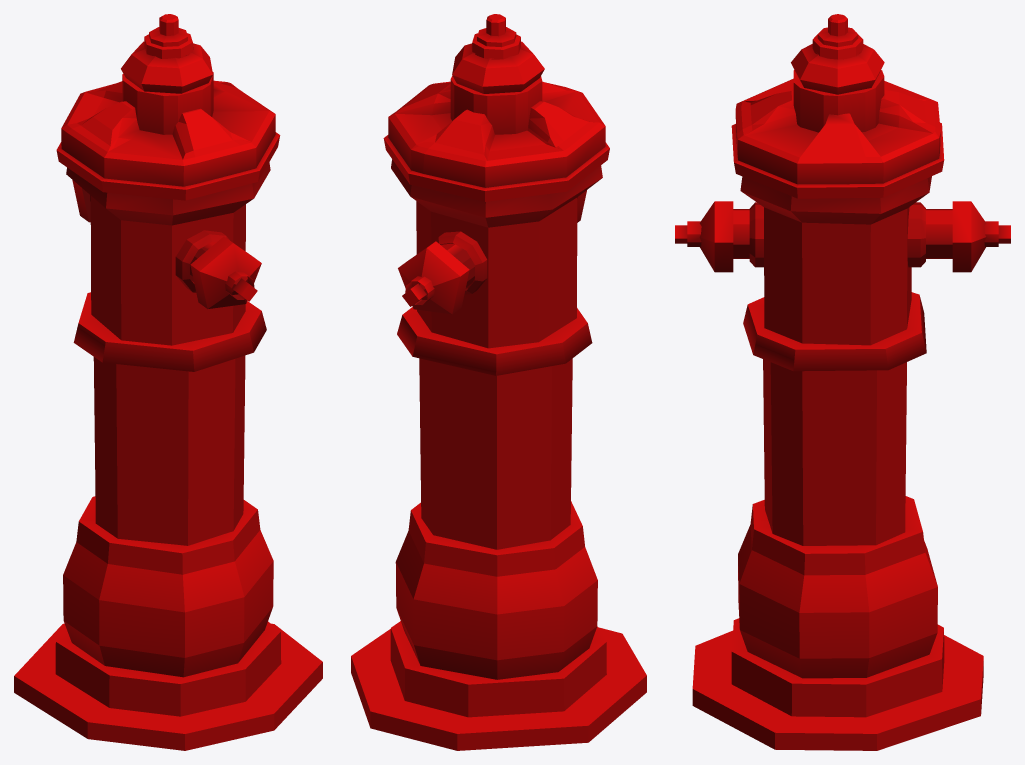
File: FireHydrant.glb
3 renders of one model, left to right at view 1: azimuth 30°, elevation 25°; view 2: azimuth 150°, elevation 25°; view 3: azimuth 270°, elevation 25°, orthographic.
Parts seen in each view (by area): view 1: FireHydrant; view 2: FireHydrant; view 3: FireHydrant.
Boxes of the visible parts, x1,y1,x2,y2 form: FireHydrant: (14,14,322,750); FireHydrant: (351,14,646,750); FireHydrant: (675,14,1010,750).
Size of the model in its own units: 1.63 by 4.19 by 1.9.
